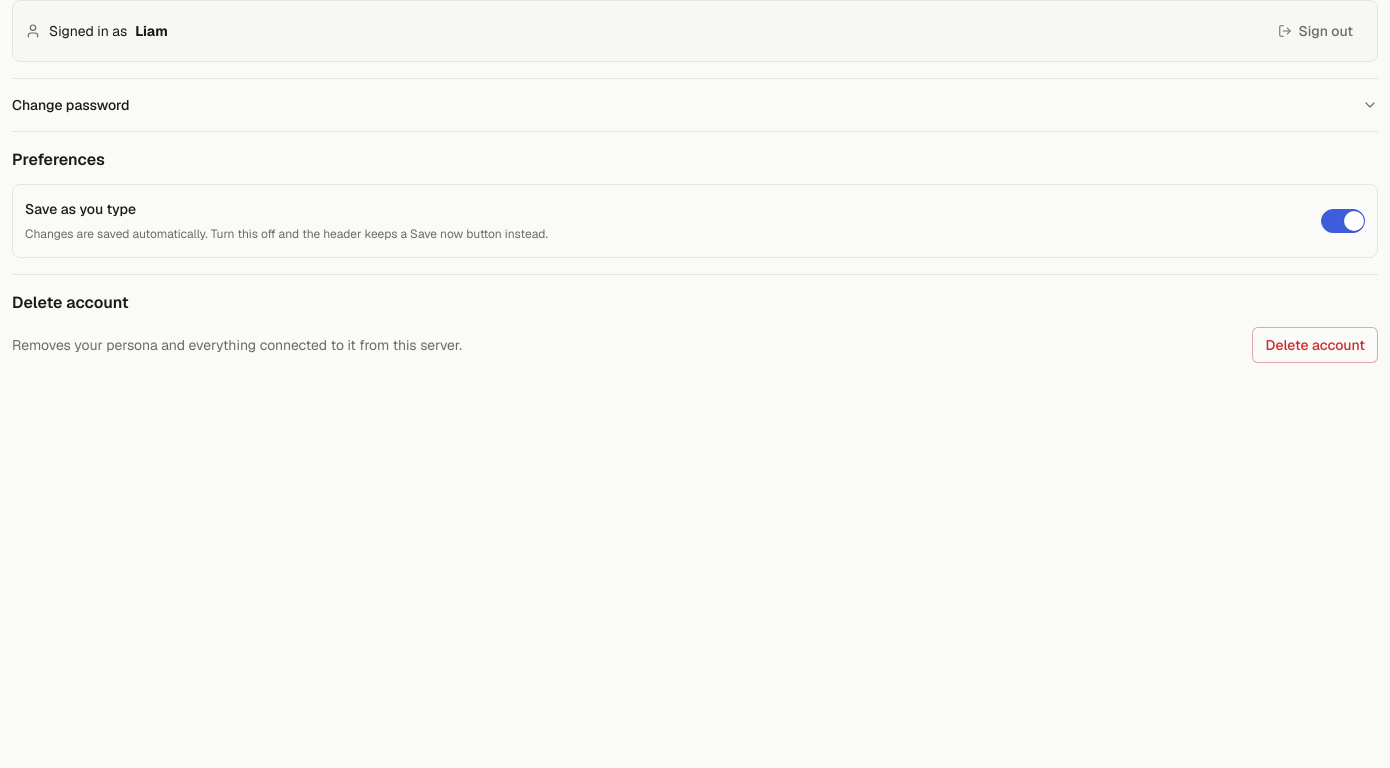
Scenario: changing the password › refuses a mismatch without a round trip
Click the button "Change password" at point(71, 105), box x1=12 y1=95 x2=1378 y2=115
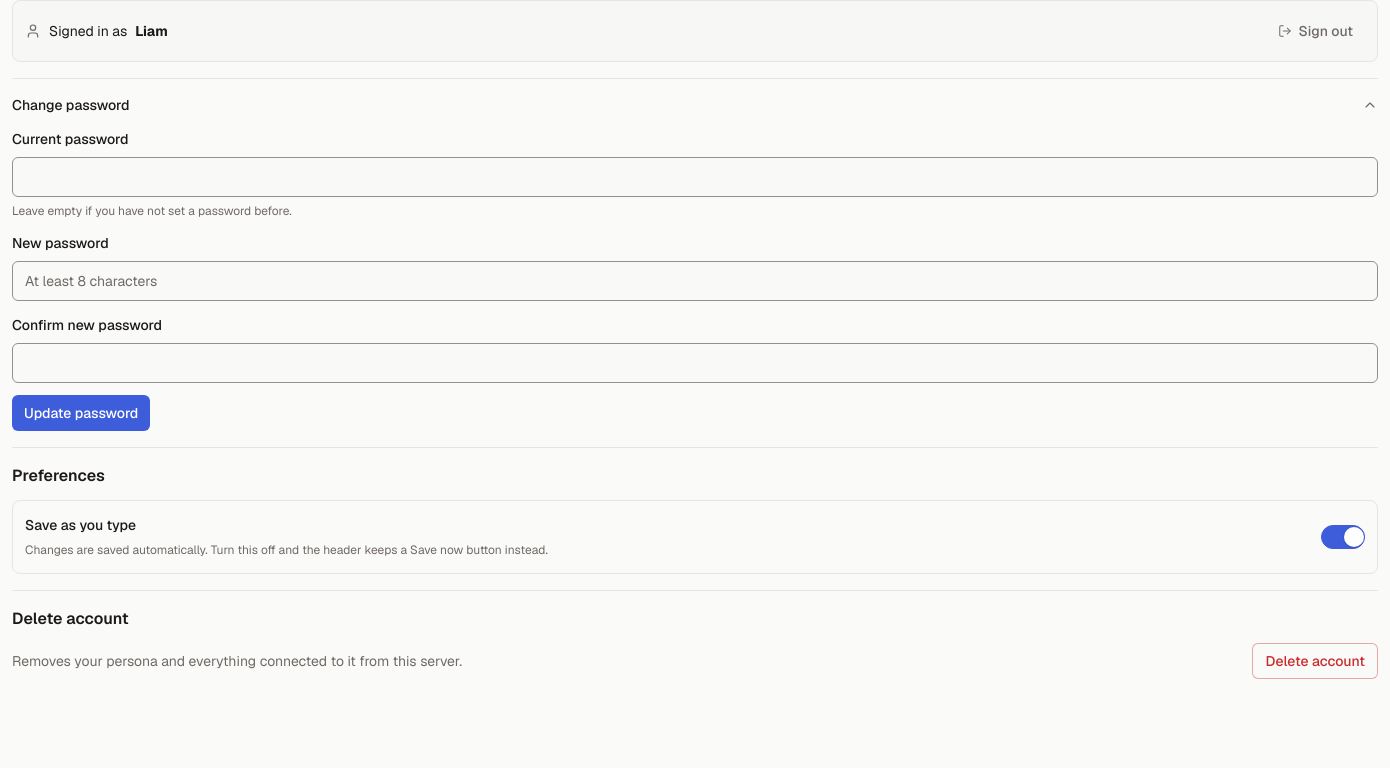
Type "longenough1" into the password field labelled "New password" at point(695, 281), box x1=12 y1=261 x2=1378 y2=301
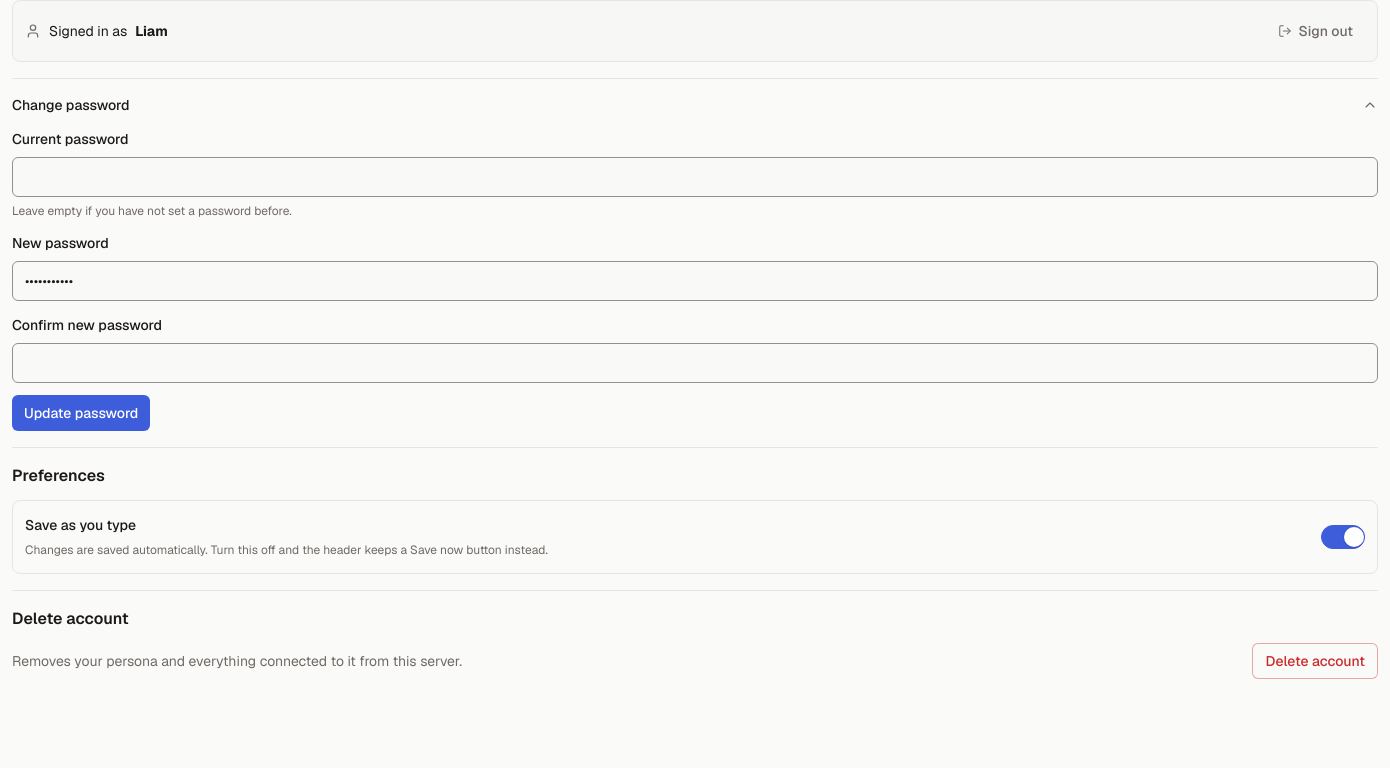
Type "different1" into the password field labelled "Confirm new password" at point(695, 363), box x1=12 y1=343 x2=1378 y2=383
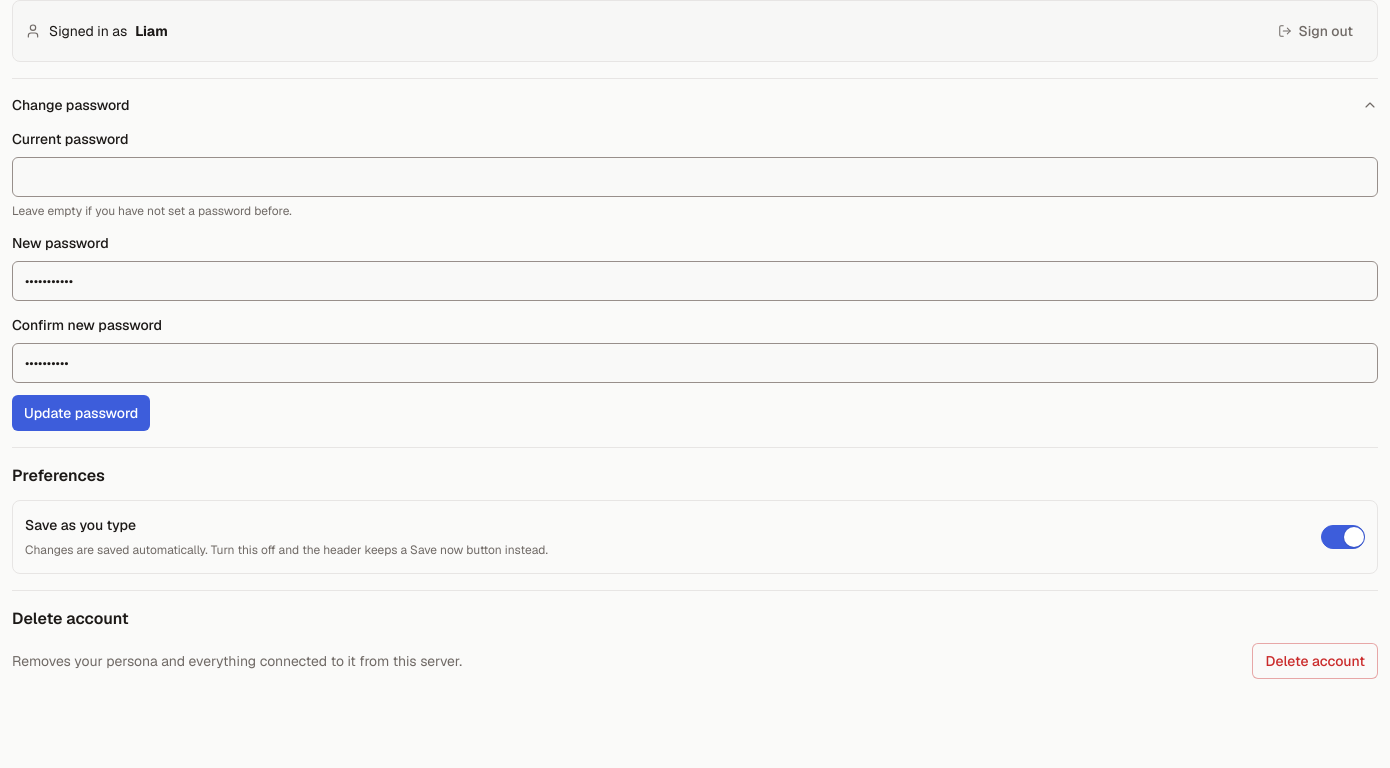
Click the button "Update password" at point(81, 413), box x1=12 y1=395 x2=150 y2=431
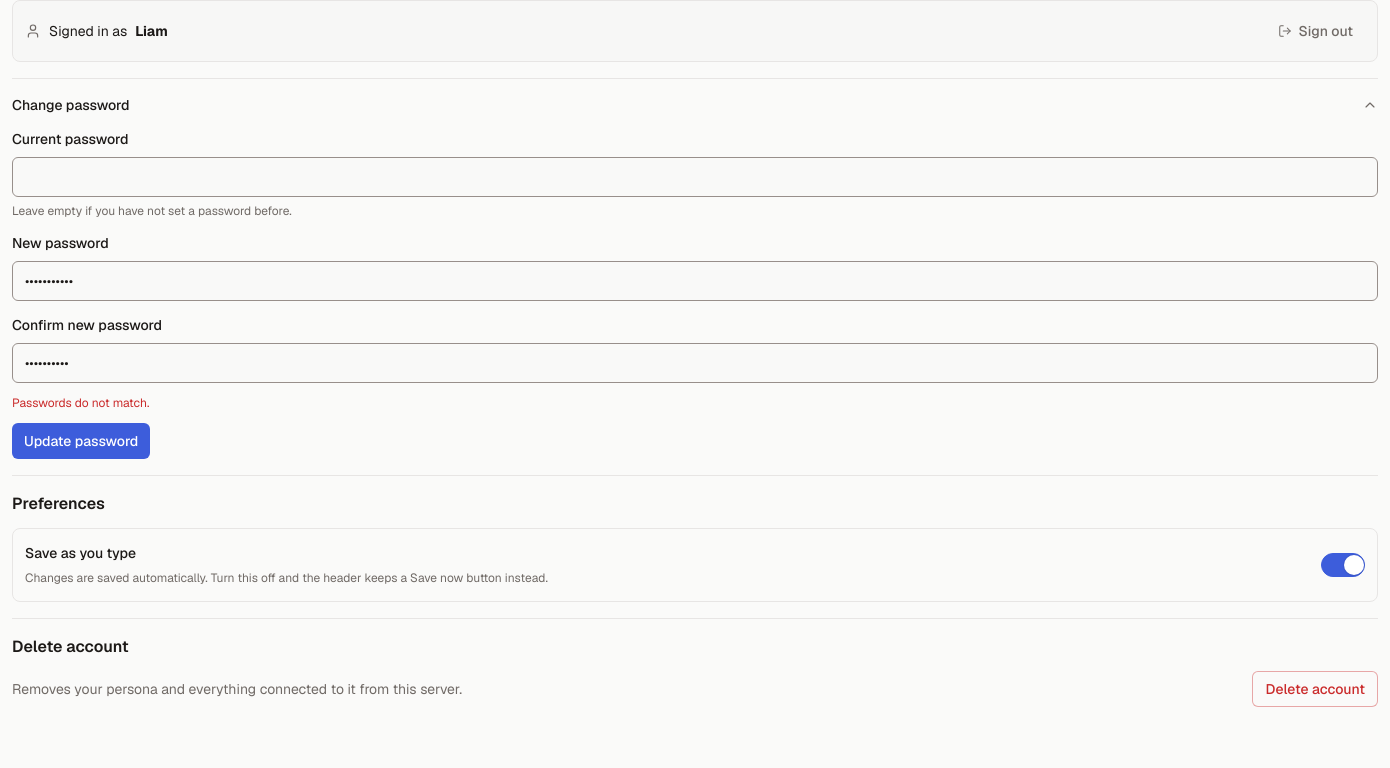
Check: the text "Passwords do not match." is shown, box x1=12 y1=395 x2=149 y2=411
